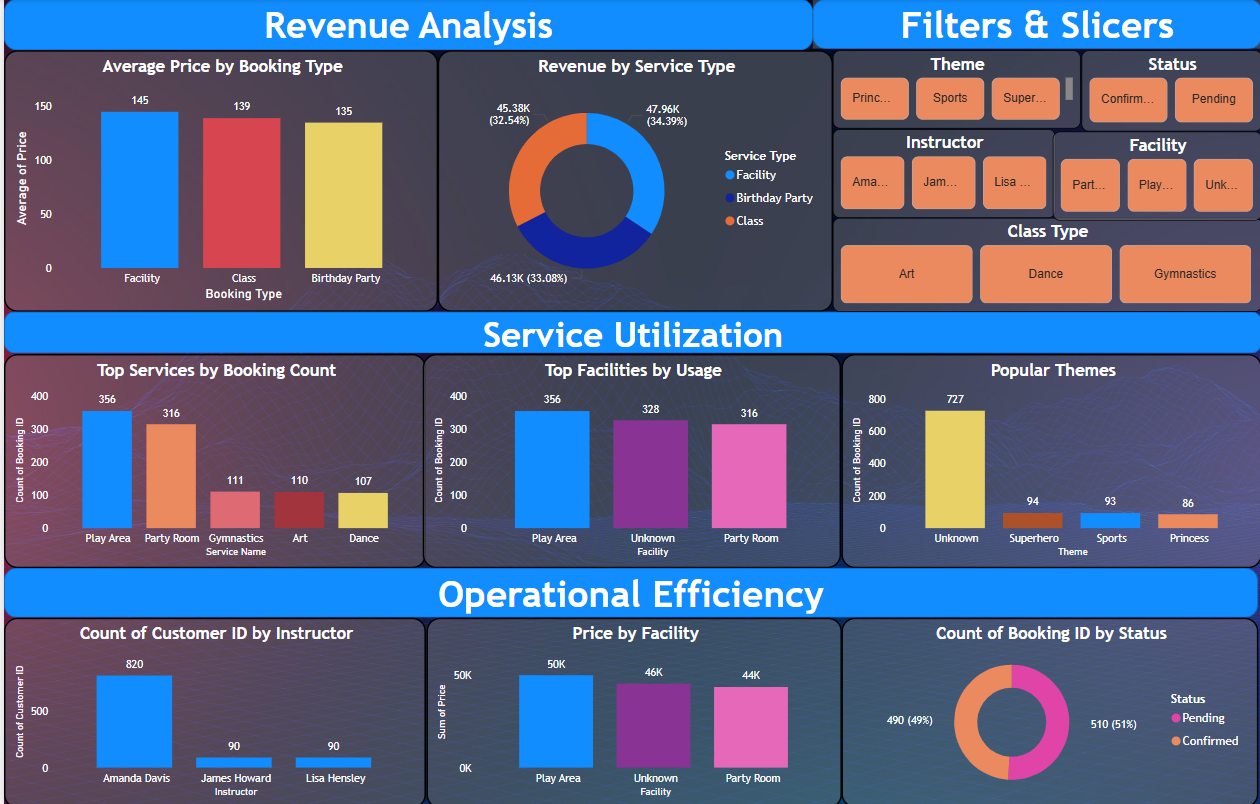

The dashboard page shown, as its layout file describes it:
{"tool":"powerbi","page":{"name":"Page 2","canvas":[1400,900],"ordinal":1},"visuals":[{"type":"columnChart","title":"Average Price by Booking Type","fields":{"Category":["Sheet1.Booking Type"],"Y":["Sheet1.Price"]},"box":[0,57,483.3,291.2],"z":0},{"type":"donutChart","title":"Revenue by Service Type","fields":{"Category":["Sheet1.Service Type"],"Y":["Sheet1.Price"]},"box":[483.3,57,439.8,291.2],"z":1000},{"type":"shape","box":[0,0,900.5,57],"z":2000},{"type":"shape","box":[0,348.2,1400.3,46.5],"z":3000},{"type":"columnChart","title":"Top Services by Booking Count","fields":{"Category":["Sheet1.Service Name"],"Y":["Sheet1.Booking ID"]},"box":[0,394.7,469.8,238.6],"z":4000},{"type":"clusteredColumnChart","title":"Top Facilities by Usage","fields":{"Category":["Sheet1.Facility"],"Y":["Sheet1.Booking ID"]},"box":[466.8,394.7,465.3,238.6],"z":5000},{"type":"clusteredColumnChart","title":"Popular Themes","fields":{"Category":["Sheet1.Theme"],"Y":["Sheet1.Booking ID"]},"box":[932,394.7,468.3,238.6],"z":6000},{"type":"advancedSlicerVisual","fields":{"Values":["Sheet1.Class Type"]},"box":[923,243.1,477.3,105.1],"z":7000},{"type":"advancedSlicerVisual","fields":{"Values":["Sheet1.Instructor"]},"box":[923,144.1,247.6,99.1],"z":8000},{"type":"advancedSlicerVisual","fields":{"Values":["Sheet1.Status"]},"box":[1199.2,57,201.1,90.1],"z":9000},{"type":"advancedSlicerVisual","fields":{"Values":["Sheet1.Facility"]},"box":[1167.7,147.1,232.6,99.1],"z":10000},{"type":"advancedSlicerVisual","title":"Theme","fields":{"Values":["Sheet1.Theme"]},"box":[923,57,276.2,87.1],"z":11000},{"type":"shape","box":[0,633.4,1395.8,55.5],"z":12000},{"type":"shape","box":[900.5,0,499.8,55.5],"z":13000},{"type":"columnChart","fields":{"Category":["Sheet1.Instructor"],"Y":["Sheet1.Customer ID"]},"box":[0,688.9,469.8,211.6],"z":14000},{"type":"columnChart","title":"Price by Facility","fields":{"Category":["Sheet1.Facility"],"Y":["Sheet1.Price"]},"box":[469.8,688.9,462.3,211.6],"z":15000},{"type":"donutChart","fields":{"Y":["Sheet1.Booking ID"],"Category":["Sheet1.Status"]},"box":[932,689,464,211],"z":16000}]}

Visuals, with their boxes in screenshot pixels (x1, y1, x2, y2), scaled from the page's 1400x900 canvas onto the 1260x804 screenshot:
"Average Price by Booking Type" columnChart: select_region(0, 51, 435, 311)
"Revenue by Service Type" donutChart: select_region(435, 51, 831, 311)
shape: select_region(0, 0, 810, 51)
shape: select_region(0, 311, 1259, 353)
"Top Services by Booking Count" columnChart: select_region(0, 353, 423, 566)
"Top Facilities by Usage" clusteredColumnChart: select_region(420, 353, 839, 566)
"Popular Themes" clusteredColumnChart: select_region(839, 353, 1259, 566)
advancedSlicerVisual - Sheet1.Class Type: select_region(831, 217, 1259, 311)
advancedSlicerVisual - Sheet1.Instructor: select_region(831, 129, 1054, 217)
advancedSlicerVisual - Sheet1.Status: select_region(1079, 51, 1259, 131)
advancedSlicerVisual - Sheet1.Facility: select_region(1051, 131, 1259, 220)
"Theme" advancedSlicerVisual: select_region(831, 51, 1079, 129)
shape: select_region(0, 566, 1256, 615)
shape: select_region(810, 0, 1259, 50)
columnChart - Sheet1.Instructor x Sheet1.Customer ID: select_region(0, 615, 423, 803)
"Price by Facility" columnChart: select_region(423, 615, 839, 803)
donutChart - Sheet1.Booking ID x Sheet1.Status: select_region(839, 616, 1256, 803)
